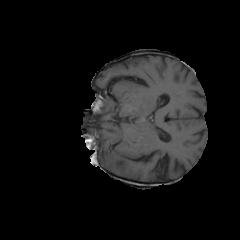glioma: (99, 130, 144, 179)
